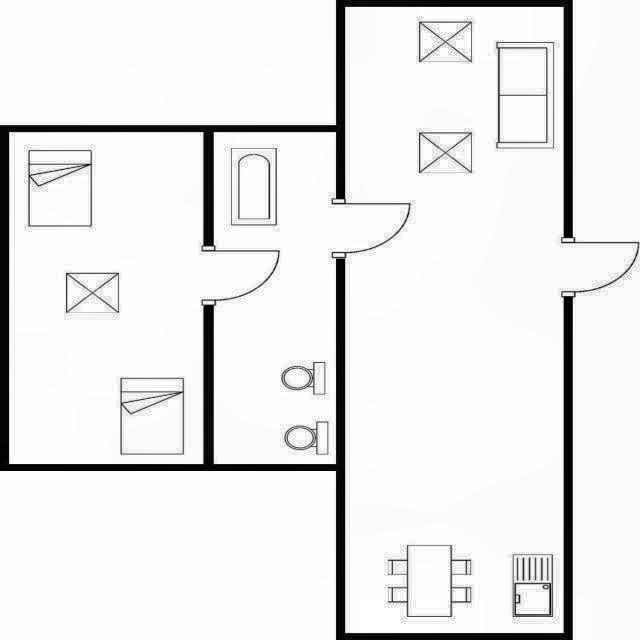room: (345, 7, 564, 633), (9, 132, 203, 464), (214, 132, 336, 464)
